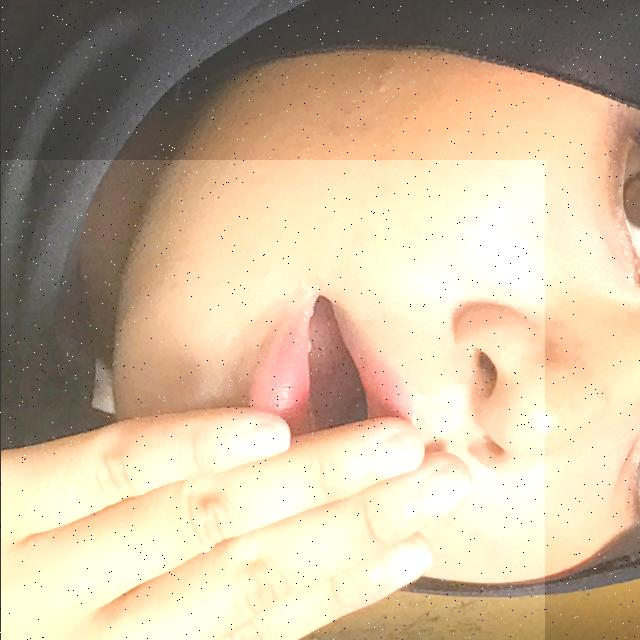ngantuk: (0, 160, 544, 640)
